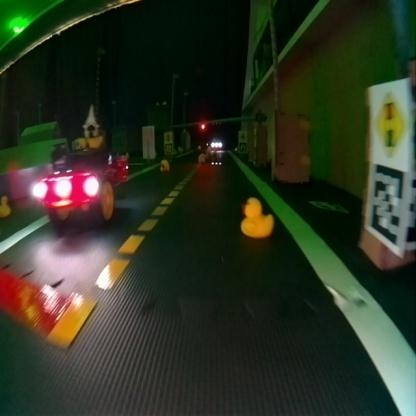Duckie: (241, 198, 273, 238), (0, 195, 9, 216), (160, 159, 168, 171), (198, 153, 204, 161)
Duckiebot: (34, 146, 128, 222), (210, 138, 222, 148)
Intersection sign: (238, 131, 246, 139)
QR code: (366, 161, 404, 248), (309, 200, 346, 212), (238, 141, 246, 152), (164, 143, 172, 153)
Signal sign: (370, 90, 406, 158), (164, 133, 170, 141)
Traffic light: (200, 121, 206, 130)
